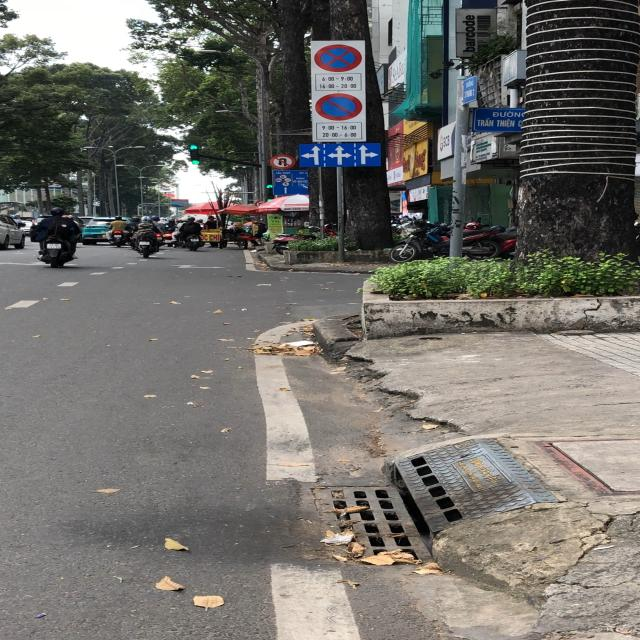Bien bao cam do xe: (310, 90, 361, 122)
Bien bao cam dung xe va do xe: (313, 42, 363, 74)
Bien bao cam quay dau xe: (270, 153, 300, 170)
